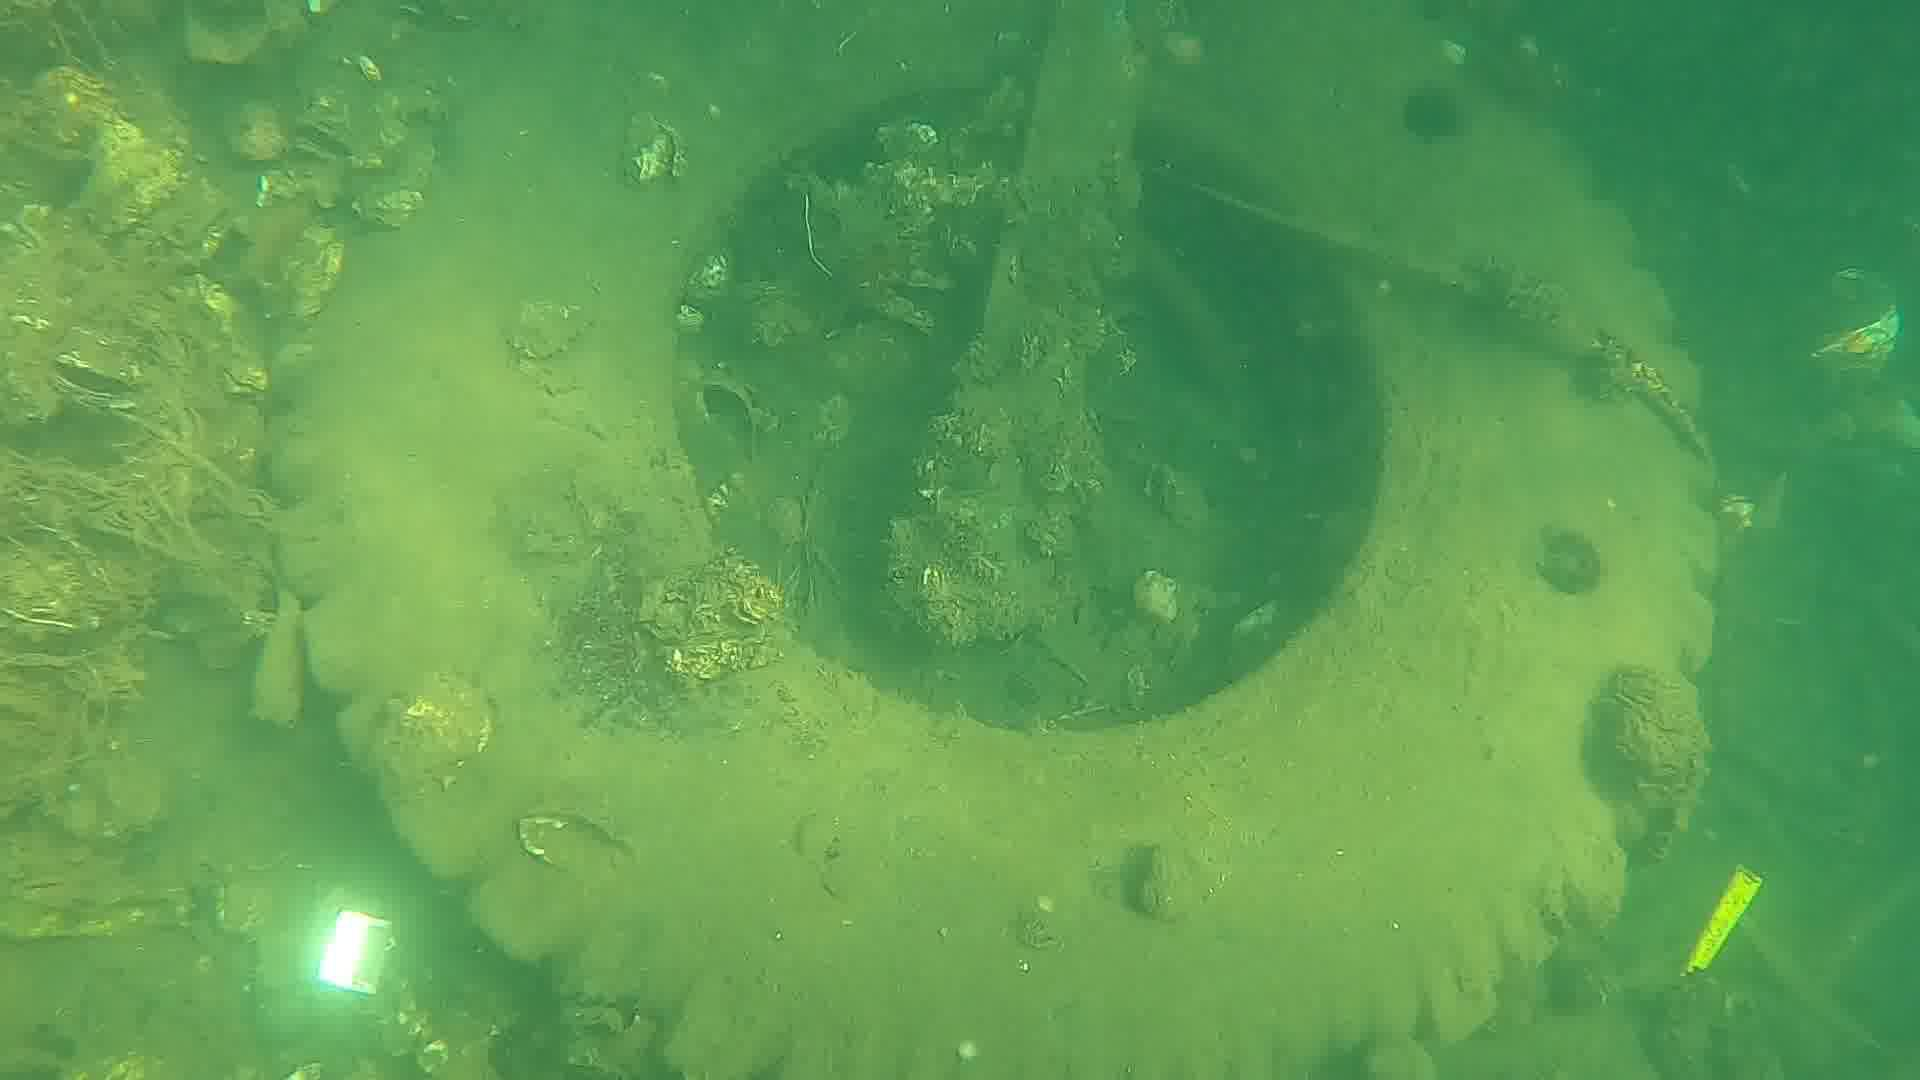tire: (274, 0, 1724, 1080)
